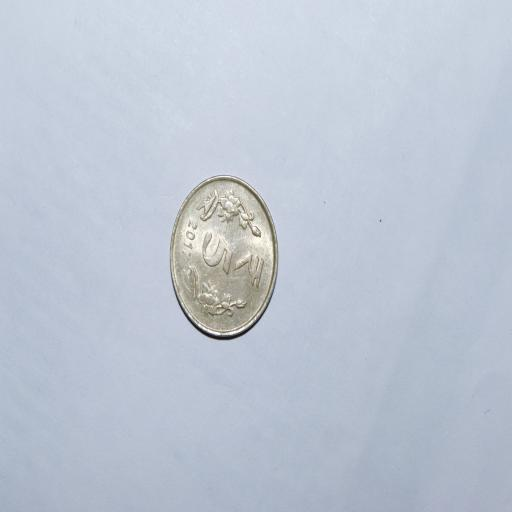rupee5: (168, 174, 282, 342)
